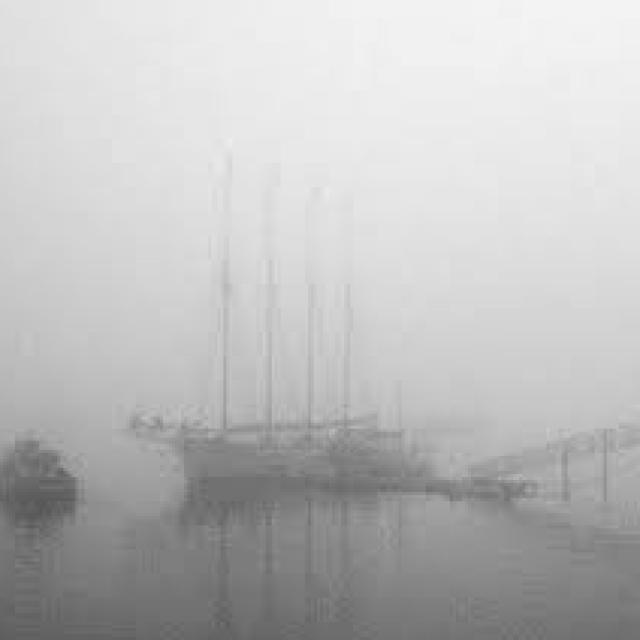fishing boat: (133, 256, 467, 497), (0, 435, 91, 516)
